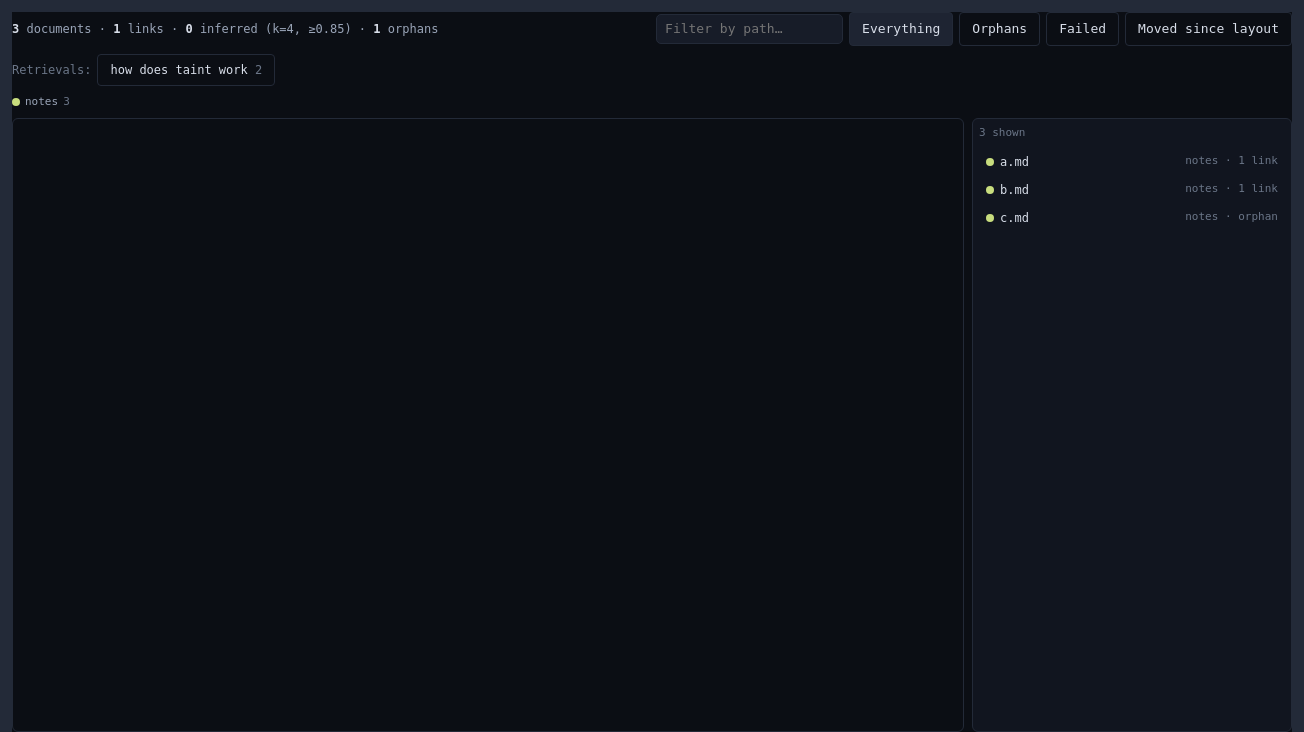
Scenario: KnowledgeGraph › the use question — what was retrieved, and from where › toggles off when the same retrieval is clicked again
Click the button "how does taint work 2" at [186, 70], box [98,54,275,86]
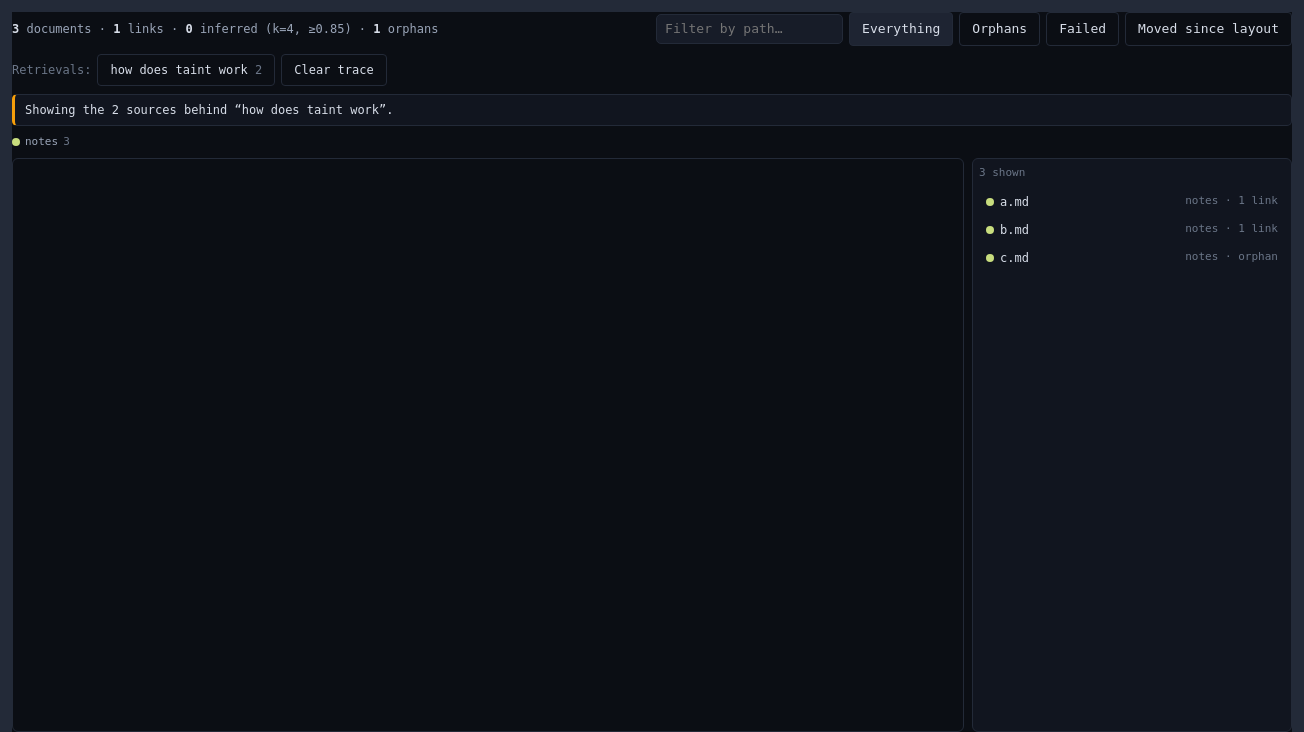
Click the button "how does taint work 2" at [186, 70], box [98,54,275,86]
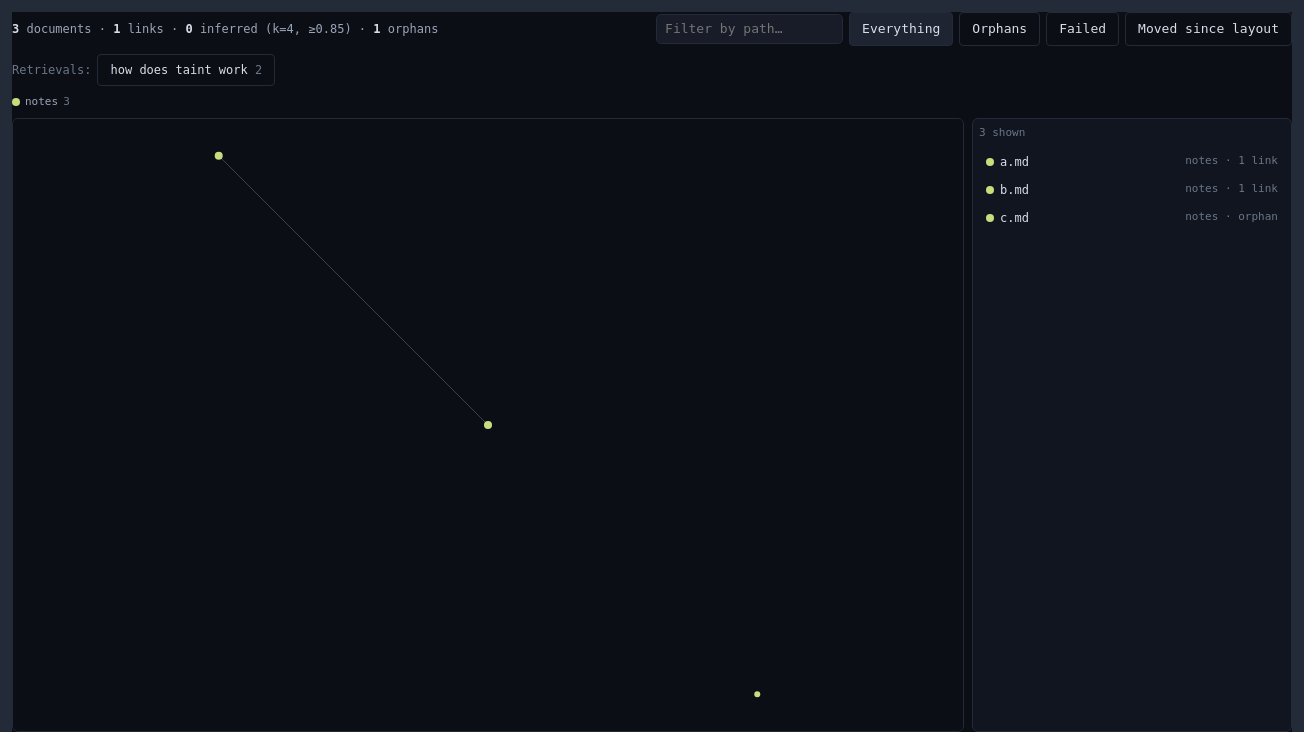
Expected: the text "Showing the" is gone
